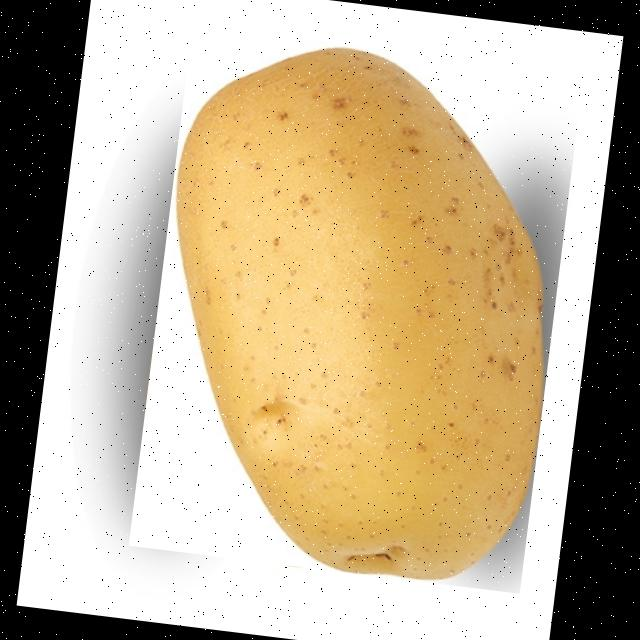Potato: (128, 25, 583, 592)
